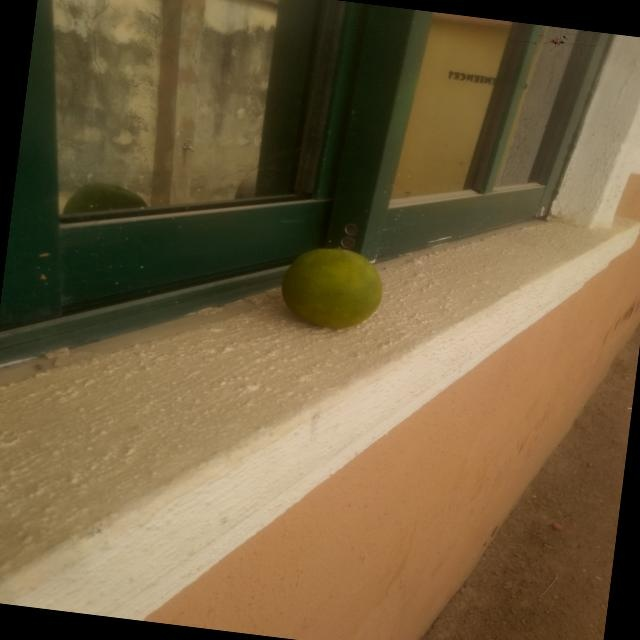agrume: (263, 230, 410, 346)
